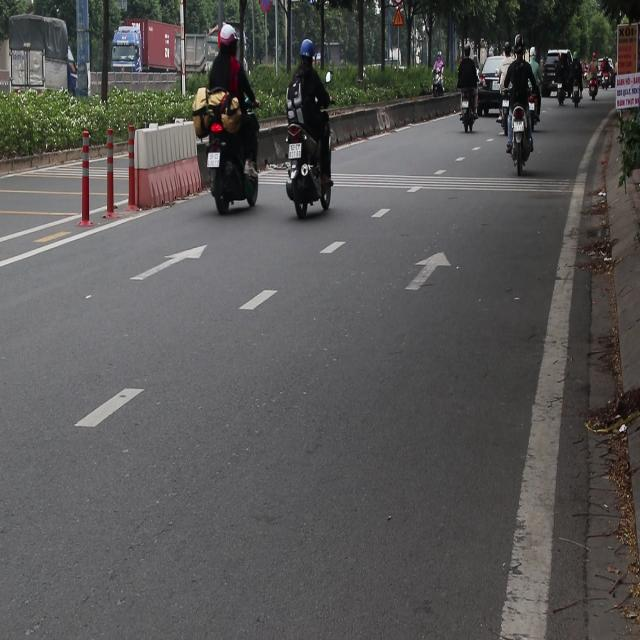car: (540, 50, 572, 98), (480, 56, 513, 91)
motorbike: (194, 95, 260, 222), (286, 116, 330, 218), (504, 85, 538, 175), (433, 61, 454, 114), (554, 78, 570, 110), (570, 81, 582, 108), (587, 77, 598, 101)
truck: (109, 19, 184, 98), (8, 16, 78, 97)
